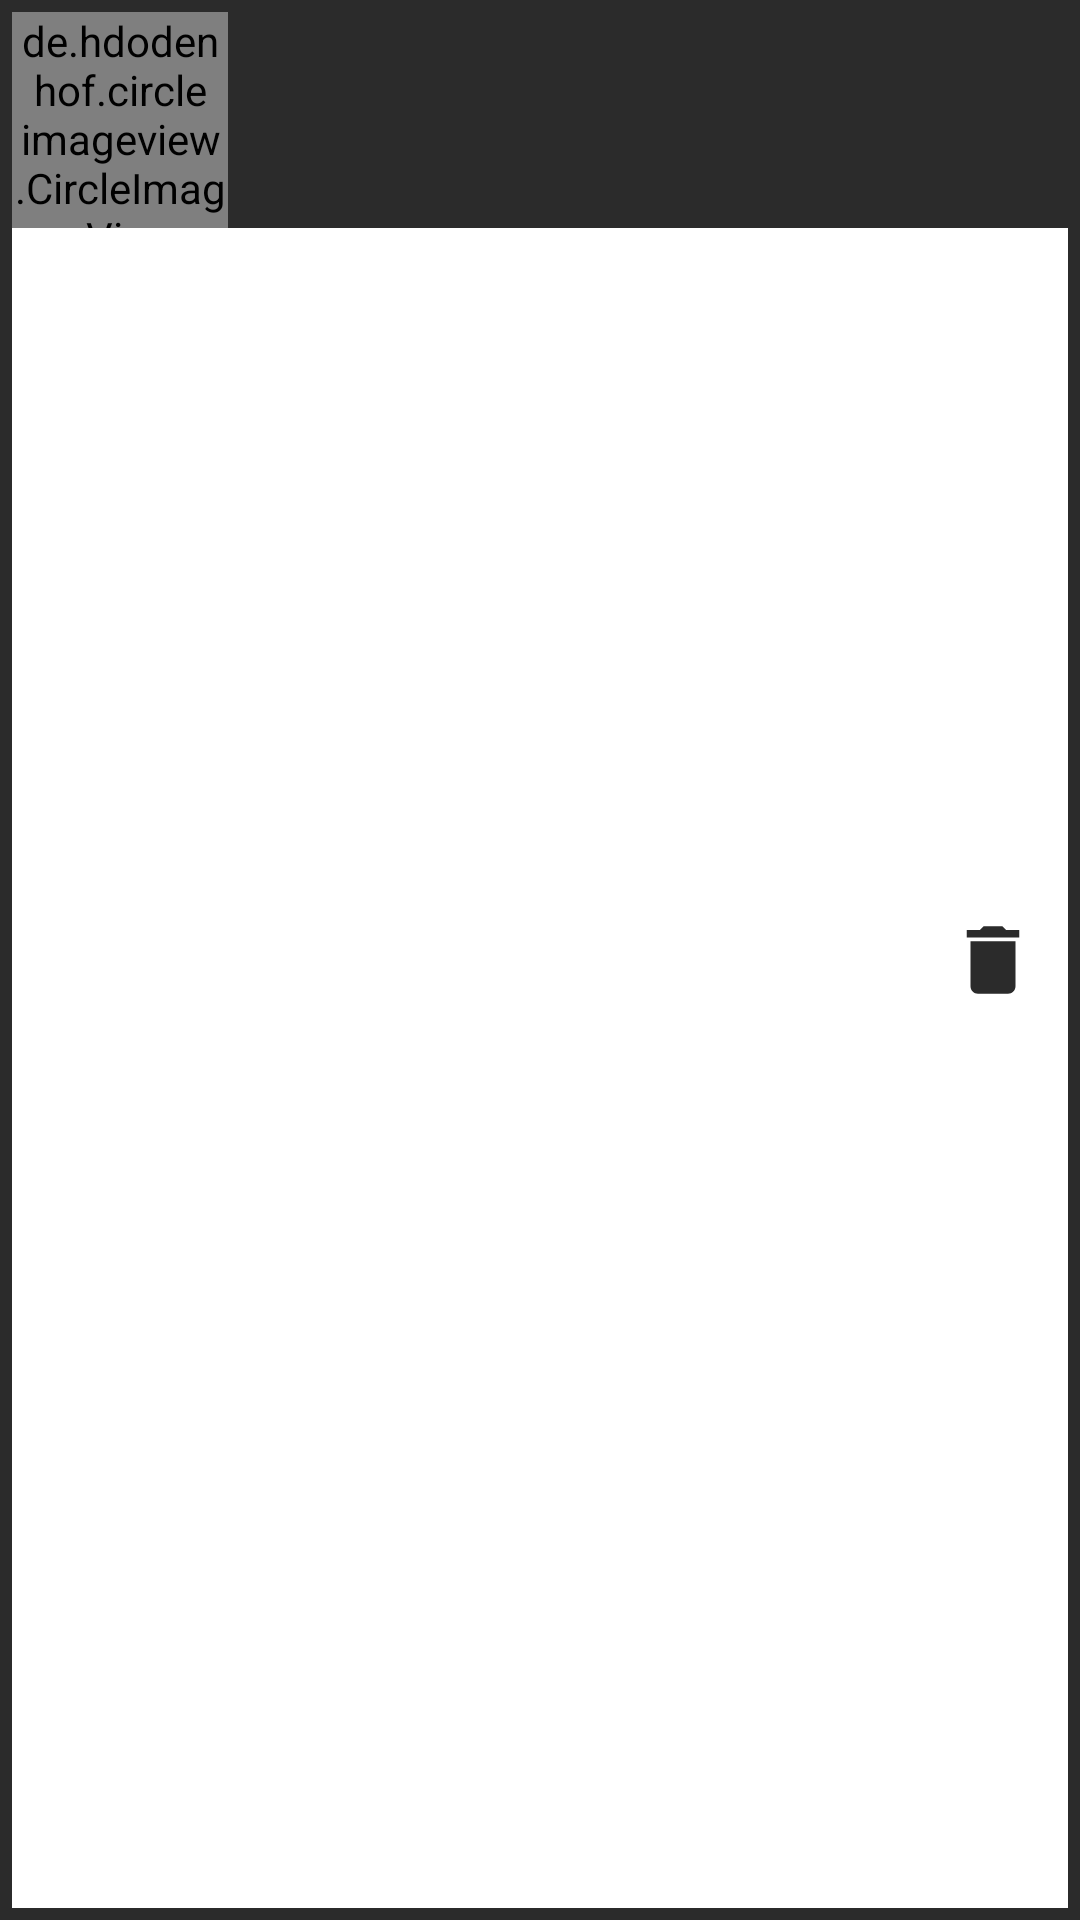

Icon bounding boxes for this 1080 x 1920 phone screenshot, format (x1, y1, x2, y2):
delete: (966, 926, 1020, 994)
